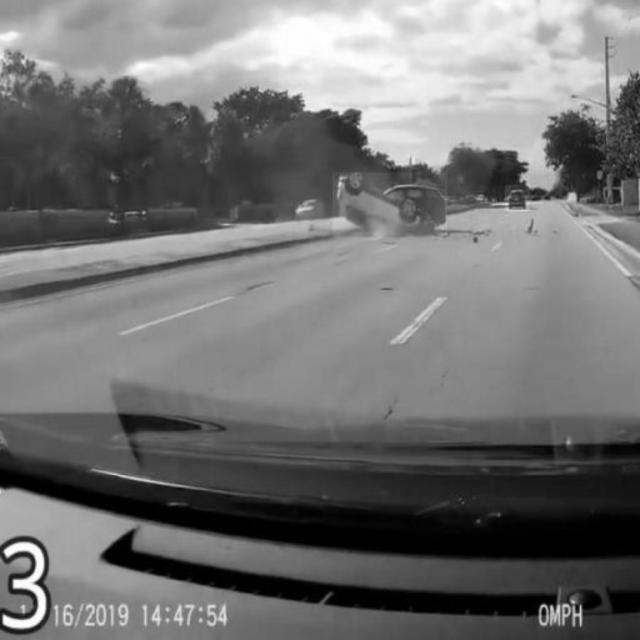accident: (332, 173, 448, 235)
vehicle: (505, 186, 530, 212)
